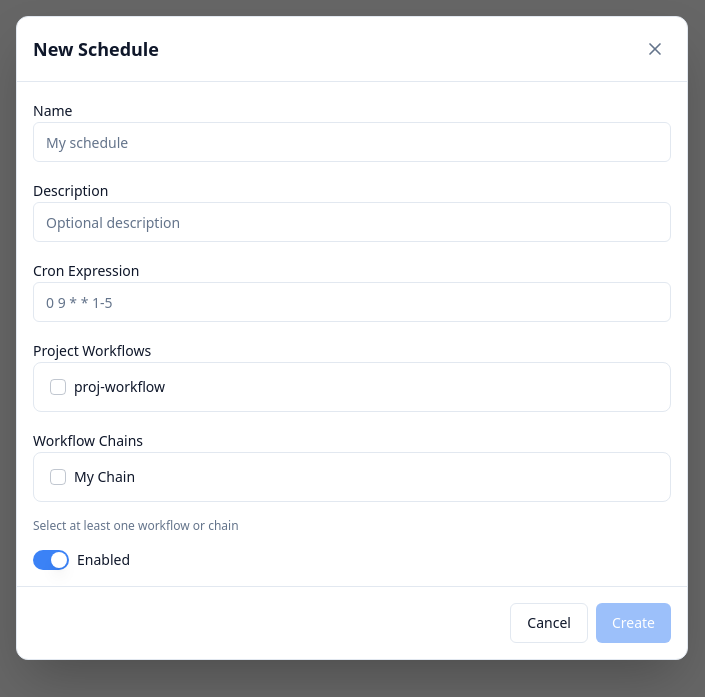
Scenario: ScheduleForm - Workflow Chains › Create button enabled when only a chain is selected (no workflow)
The image size is (705, 697).
Type "Test" into the field with placeholder "My schedule".
click(352, 142); type("Test")  # box [33, 122, 671, 162]
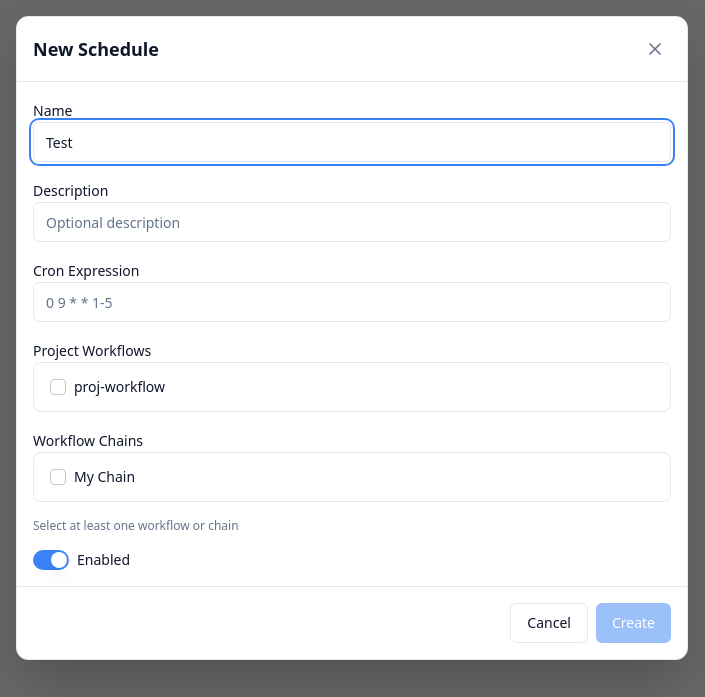
Type "* * * * *" into the field with placeholder "0 9 * * 1-5".
click(352, 302); type("* * * * *")  # box [33, 282, 671, 322]
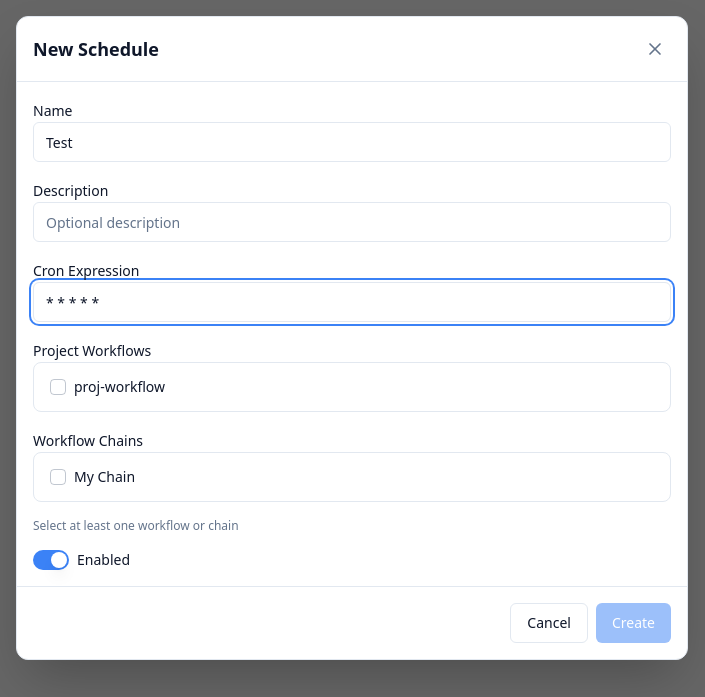
Click the button "My Chain".
click(105, 476)  # box [42, 461, 662, 493]
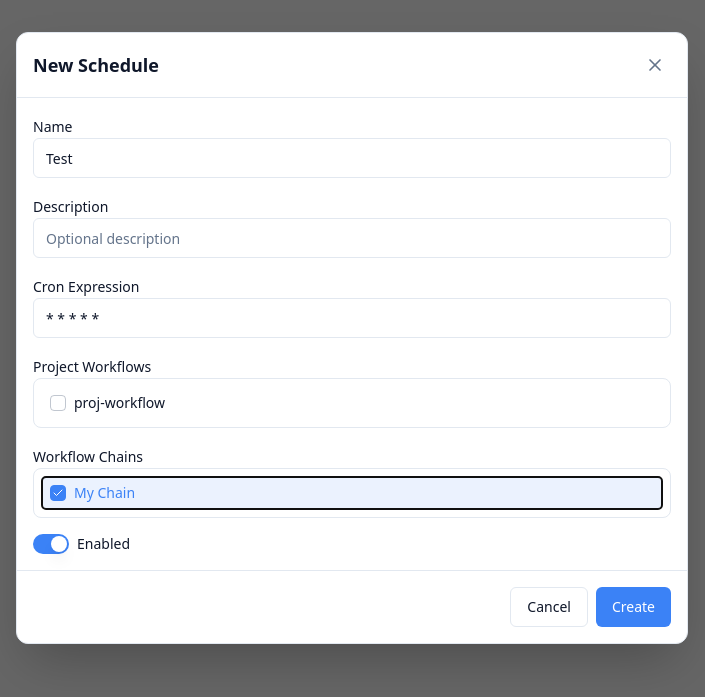
Expected: the button "Create" is enabled, [596, 587, 671, 627]
